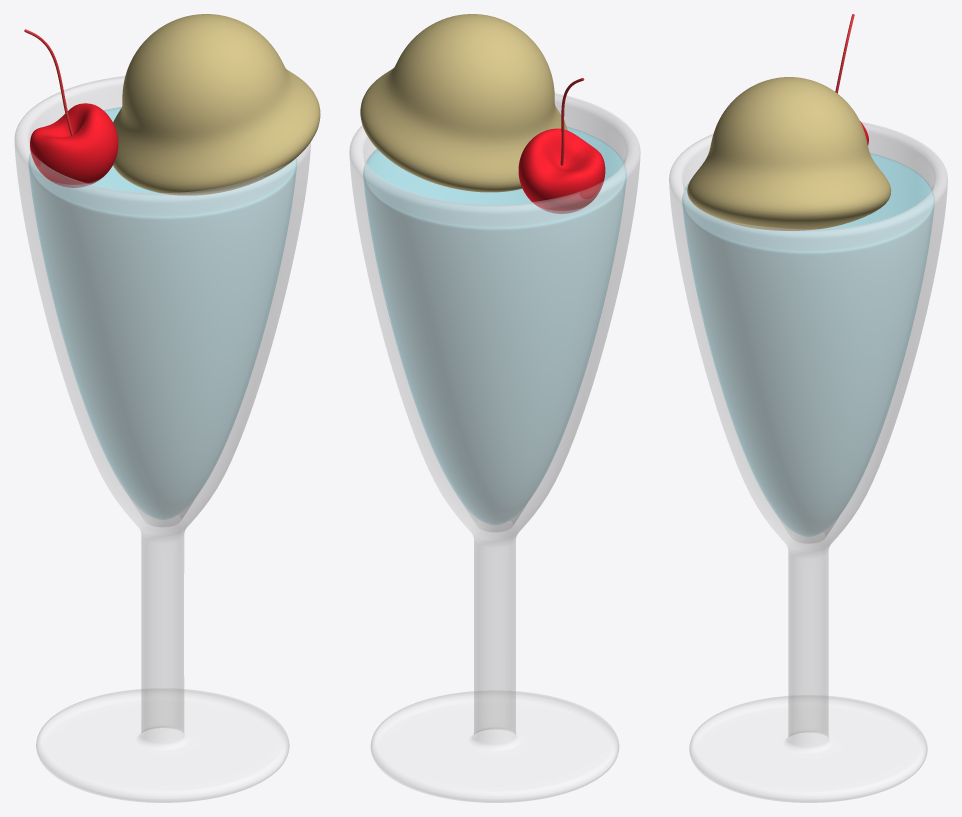
The model's file is kurimusoda.glb.
3 renders of one model, left to right at view 1: azimuth 30°, elevation 25°; view 2: azimuth 150°, elevation 25°; view 3: azimuth 270°, elevation 25°, orthographic. The views are drawn at different scales.
Parts seen in each view (by area): view 1: 球, ドリンク, アイスクリーム, サクランボ; view 2: 球, ドリンク, アイスクリーム, サクランボ; view 3: 球, ドリンク, アイスクリーム.
Boxes of the visible parts, x1=… form: 球: x1=14, y1=76, x2=310, y2=802; ドリンク: x1=28, y1=107, x2=296, y2=519; アイスクリーム: x1=113, y1=14, x2=320, y2=195; サクランボ: x1=30, y1=103, x2=118, y2=187; 球: x1=349, y1=93, x2=640, y2=802; ドリンク: x1=363, y1=126, x2=626, y2=524; アイスクリーム: x1=360, y1=14, x2=567, y2=192; サクランボ: x1=518, y1=128, x2=605, y2=213; 球: x1=669, y1=122, x2=947, y2=802; ドリンク: x1=682, y1=153, x2=934, y2=536; アイスクリーム: x1=687, y1=77, x2=891, y2=230.
Bounding box in the file's own units: 2.01 × 5.39 × 1.98.
